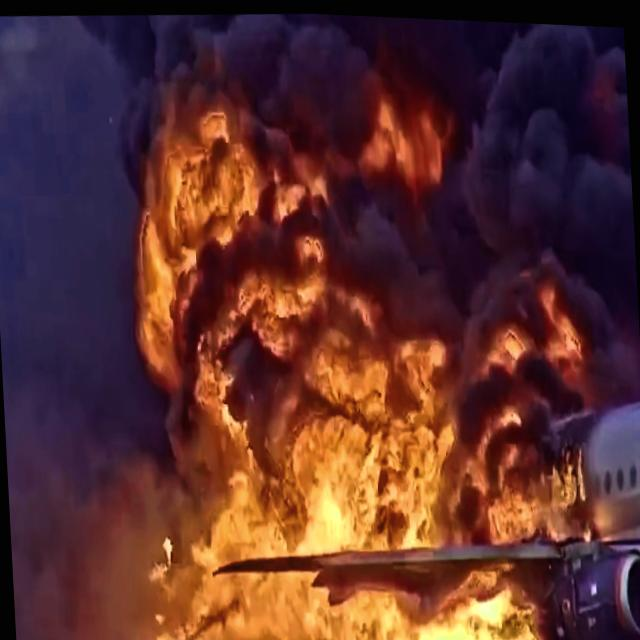fire: (170, 543, 532, 640), (301, 409, 457, 540)
smoke: (336, 12, 634, 229), (97, 3, 390, 116)
